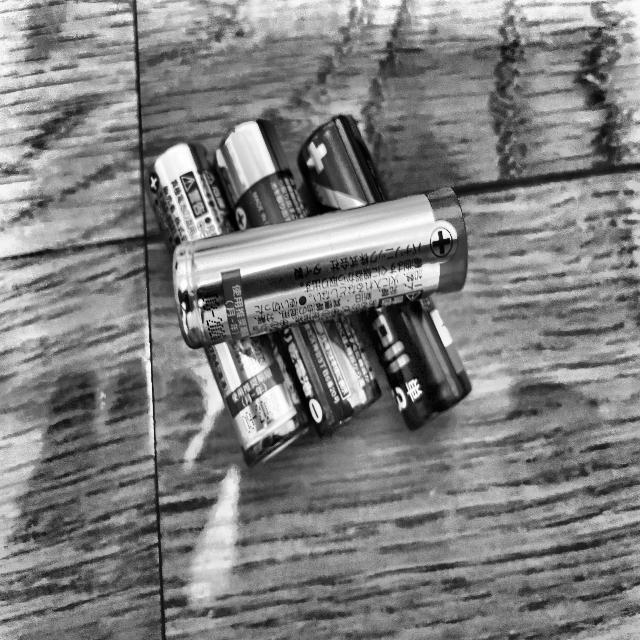drycell: (207, 106, 380, 448), (146, 135, 316, 473)
